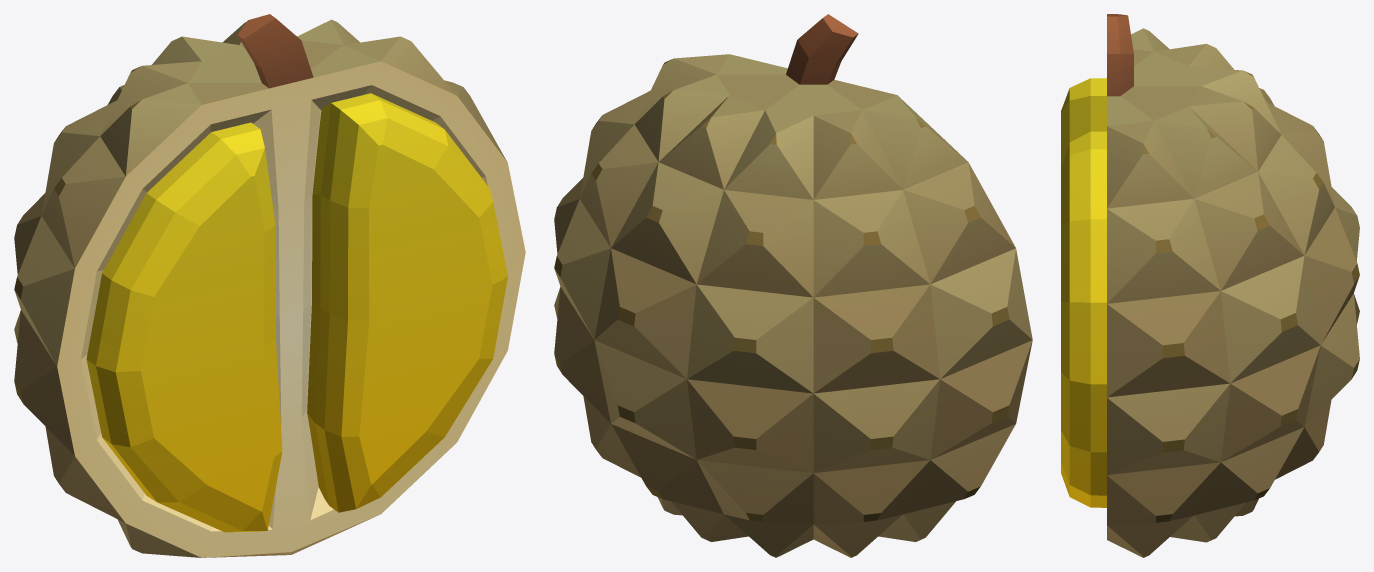
The model's file is Durian Half.fbx.
The picture shows the model from 3 angles, left to right: view 1: azimuth 30°, elevation 25°; view 2: azimuth 150°, elevation 25°; view 3: azimuth 270°, elevation 25°; orthographic projection. The views are drawn at different scales.
Visible parts, largest first — view 1: Durian Half; view 2: Durian Half; view 3: Durian Half.
Part boxes in pixels (x1,y1,x2,y2): Durian Half: (14, 14, 525, 557); Durian Half: (554, 14, 1032, 557); Durian Half: (1061, 14, 1359, 557).
Bounding box in the file's own units: 15.42 × 16.59 × 9.11.
